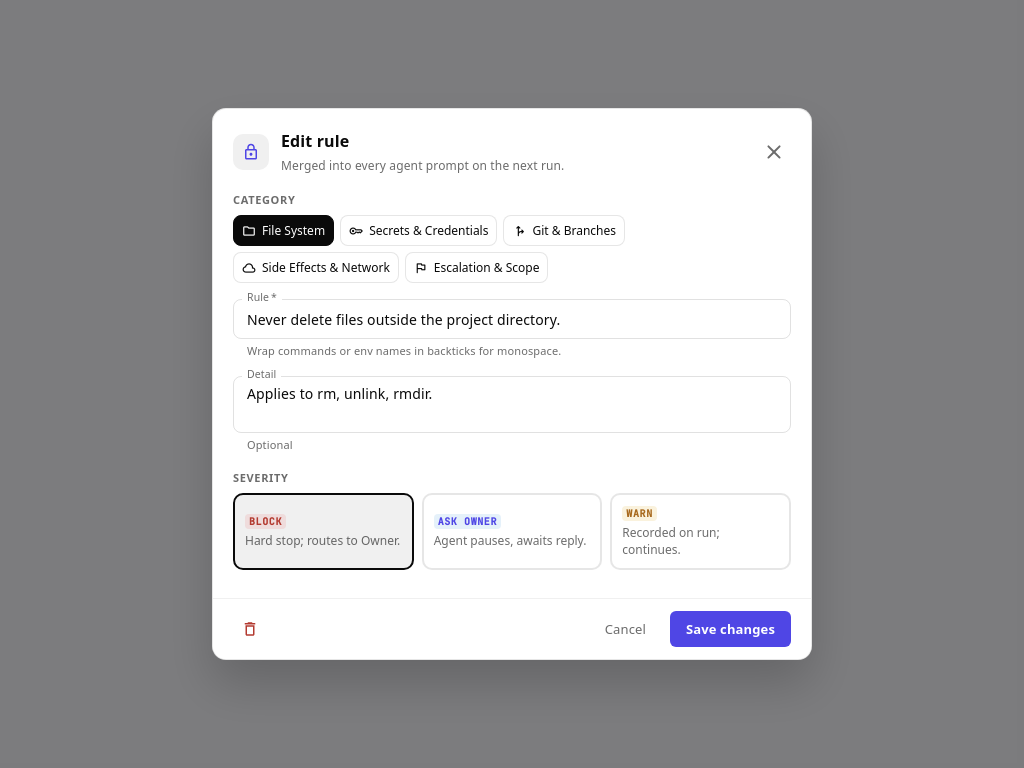
it: GuardrailModal — edit mode › clicking delete opens confirm dialog
Click the button named "Delete rule" at (250, 630), box x1=233 y1=612 x2=267 y2=646
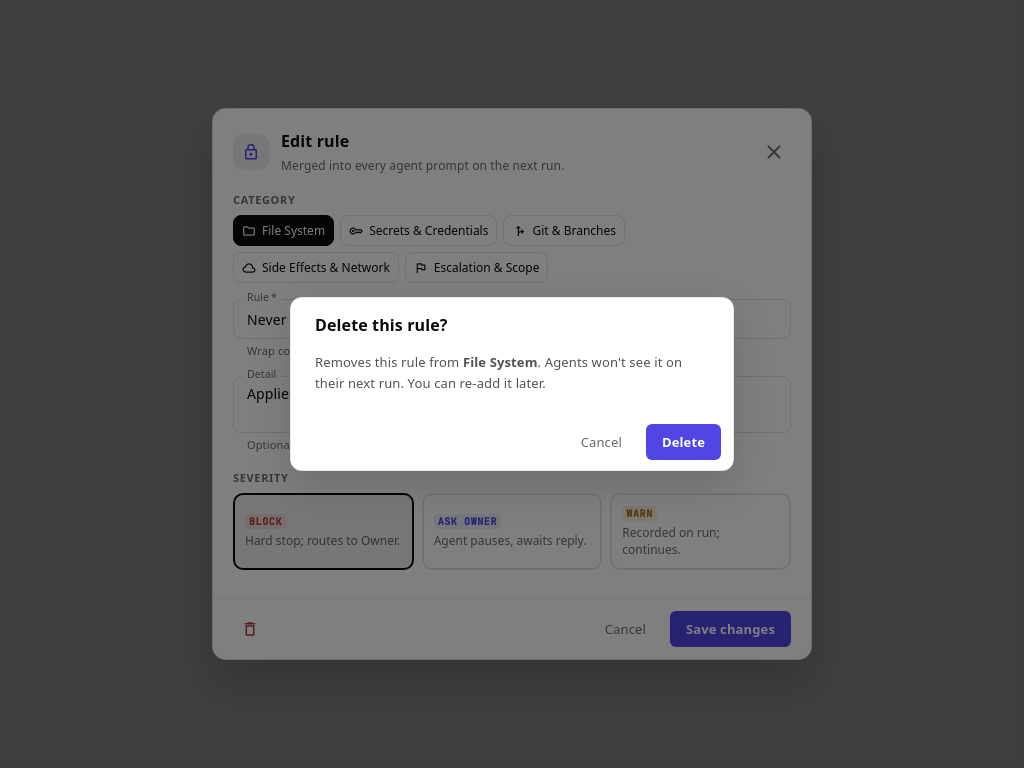
Expected: the heading "Delete this rule?" is shown, x1=315 y1=314 x2=448 y2=336
Expected: the button "Delete" is shown, x1=646 y1=424 x2=721 y2=460
